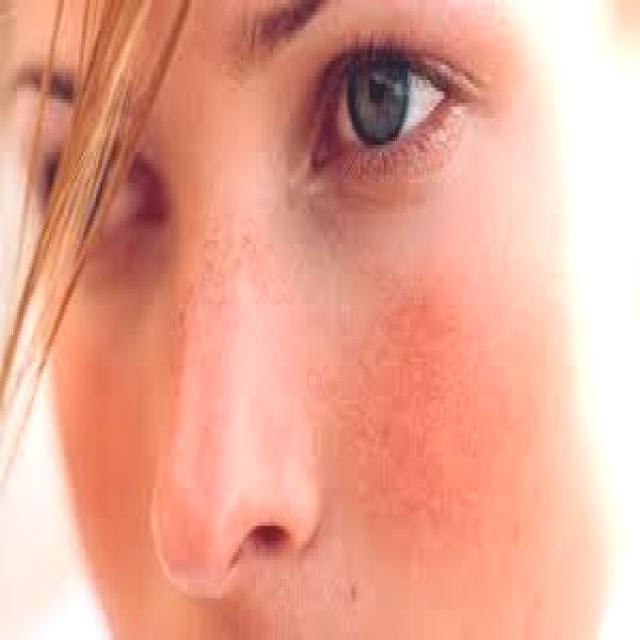Rosacea: (322, 272, 514, 560)
